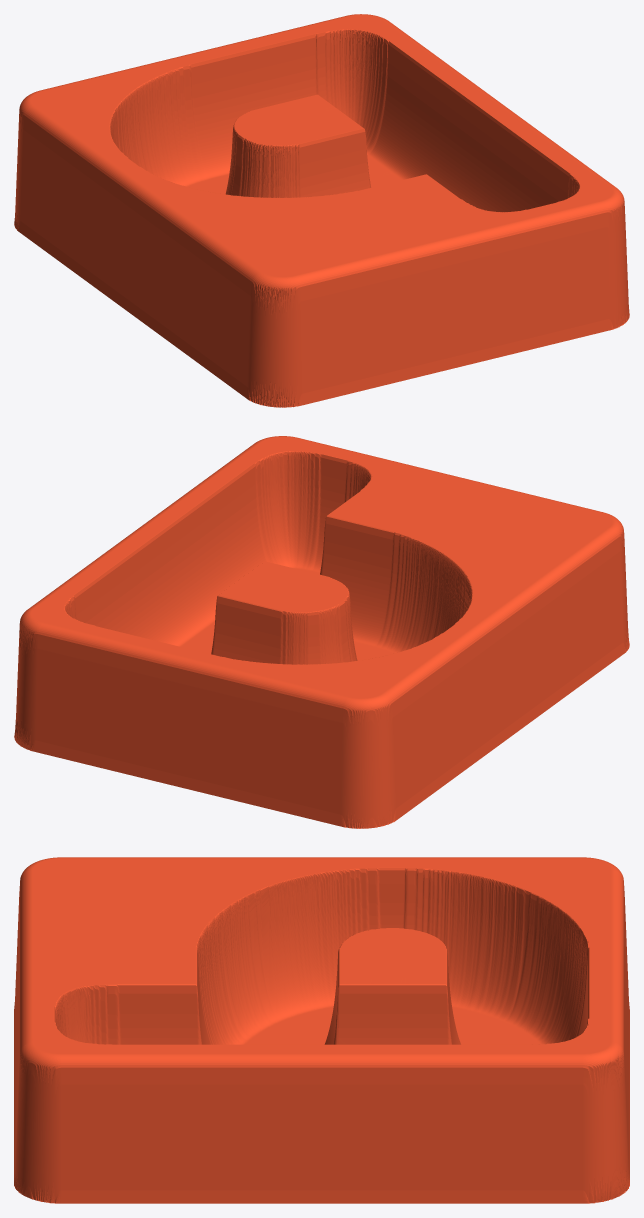
The model's file is mold.glb.
3 renders of one model, top to bottom at view 1: azimuth 30°, elevation 25°; view 2: azimuth 150°, elevation 25°; view 3: azimuth 270°, elevation 25°, orthographic. The views are drawn at different scales.
Parts seen in each view (by area): view 1: geometry_0; view 2: geometry_0; view 3: geometry_0.
Part boxes in pixels (x1,y1,x2,y2): geometry_0: (14,14,629,407); geometry_0: (14,436,629,828); geometry_0: (14,857,629,1203).
Size of the model in its own units: 0.0956 by 0.0299 by 0.1178.
